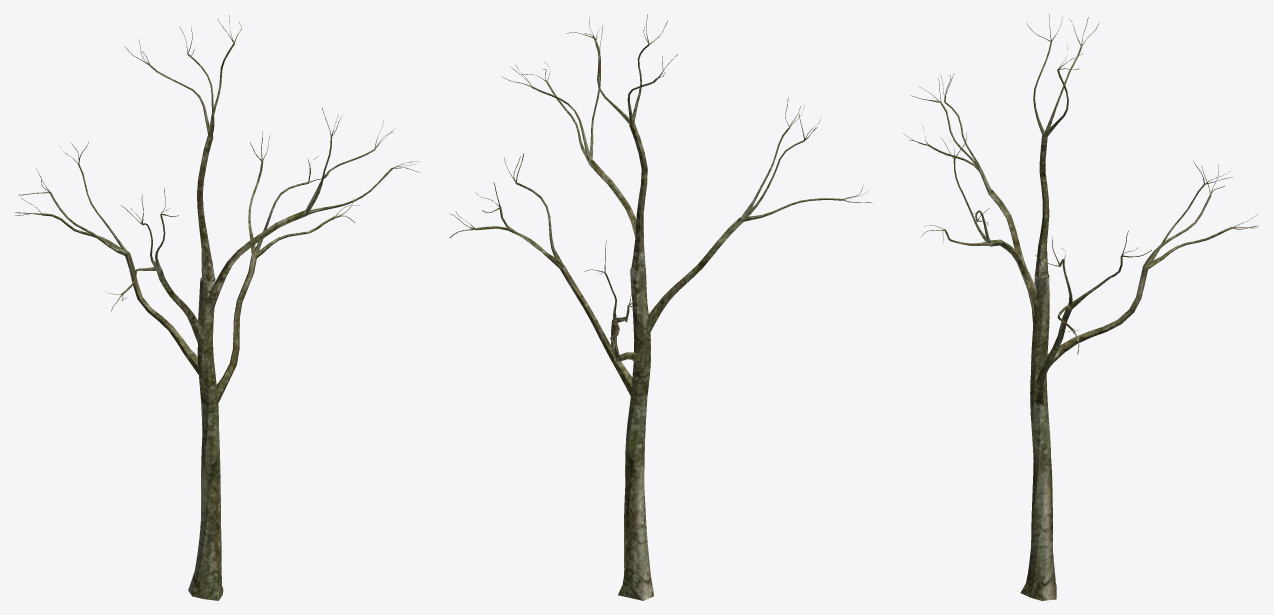
The model's file is Dead Tree.fbx.
The picture shows the model from 3 angles, left to right: view 1: azimuth 30°, elevation 25°; view 2: azimuth 150°, elevation 25°; view 3: azimuth 270°, elevation 25°; orthographic projection. The views are drawn at different scales.
Visible parts, largest first — view 1: transform1; view 2: transform1; view 3: transform1.
Part boxes in pixels (x1,y1,x2,y2): transform1: (14, 15, 419, 600); transform1: (449, 14, 872, 600); transform1: (903, 14, 1258, 600).
Size of the model in its own units: 5.3 by 8.73 by 4.94.
